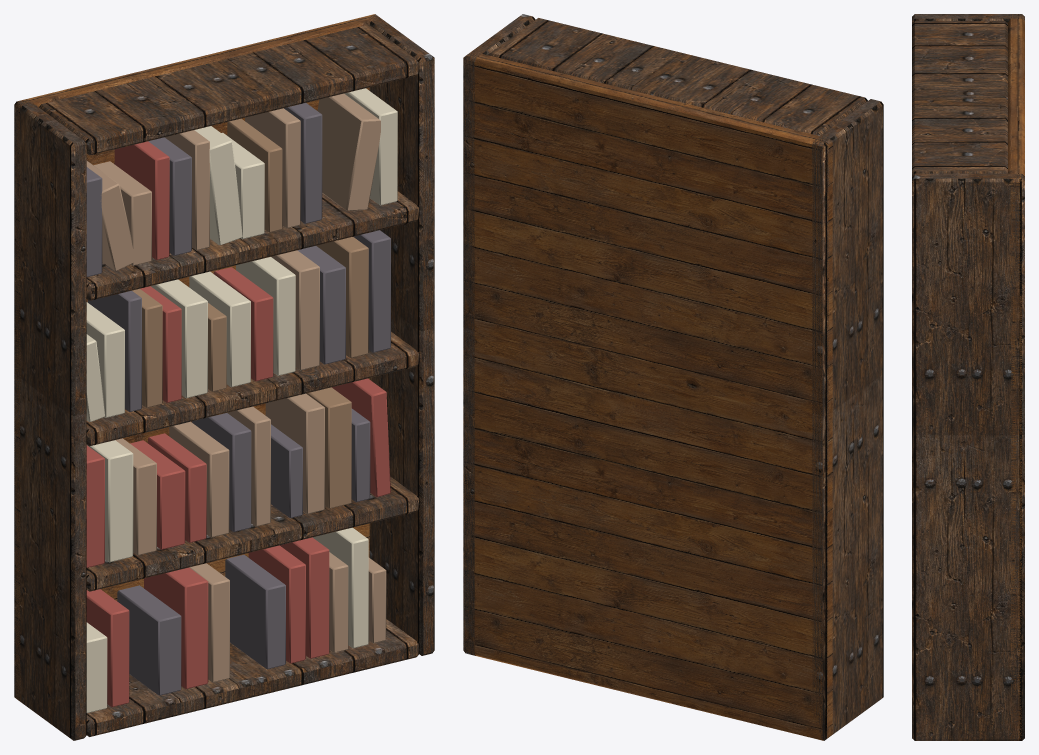
Rendered from bookshelf-v01.glb.
3 views of the same model, side by side, from view 1: azimuth 30°, elevation 25°; view 2: azimuth 150°, elevation 25°; view 3: azimuth 270°, elevation 25° (orthographic). The views are drawn at different scales.
Parts seen in each view (by area): view 1: bookshelf; view 2: bookshelf; view 3: bookshelf.
Part boxes in pixels (x1=…): bookshelf: x1=14, y1=14, x2=434, y2=740; bookshelf: x1=463, y1=14, x2=883, y2=740; bookshelf: x1=912, y1=14, x2=1024, y2=740.
Size of the model in its own units: 1.4 by 2.2 by 0.4.
Materials: 7 (2 with a texture image).
